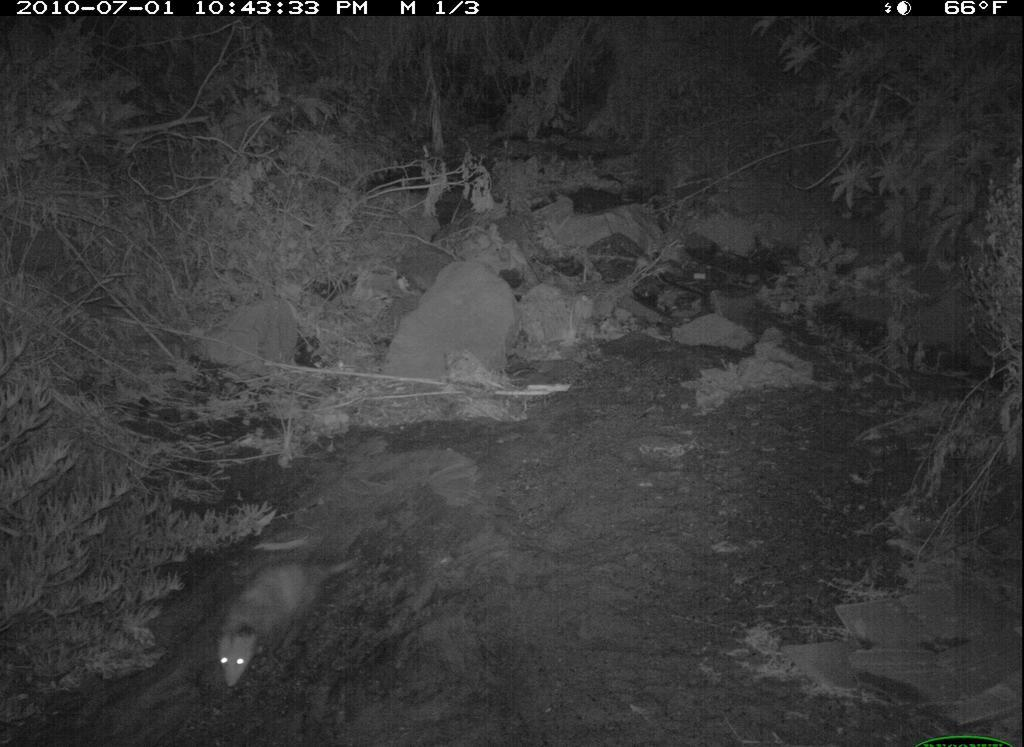opossum: (212, 541, 372, 696)
